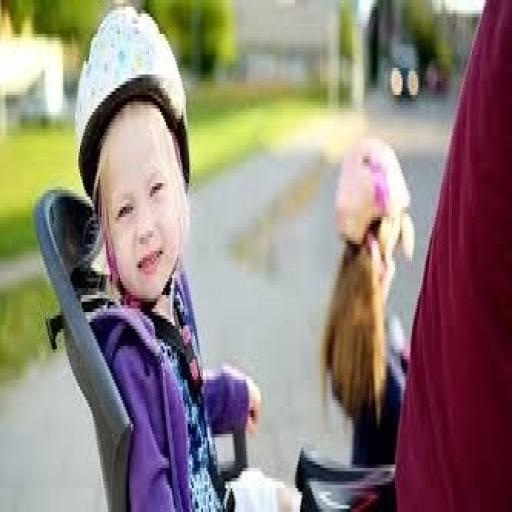cycling: (74, 4, 301, 508), (392, 0, 511, 509), (318, 129, 418, 481)
